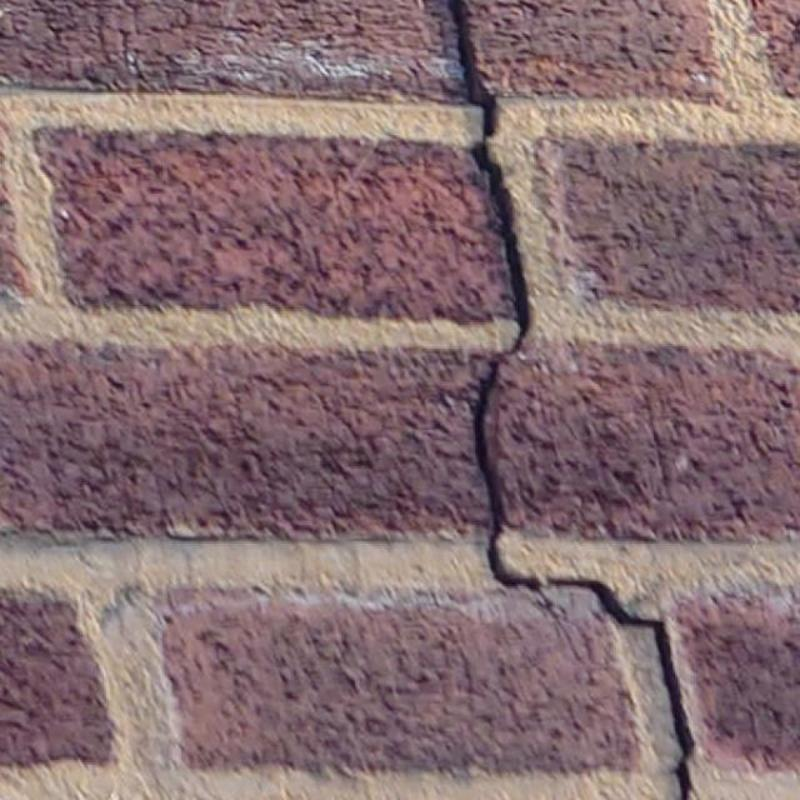pothole: (452, 0, 700, 800)
